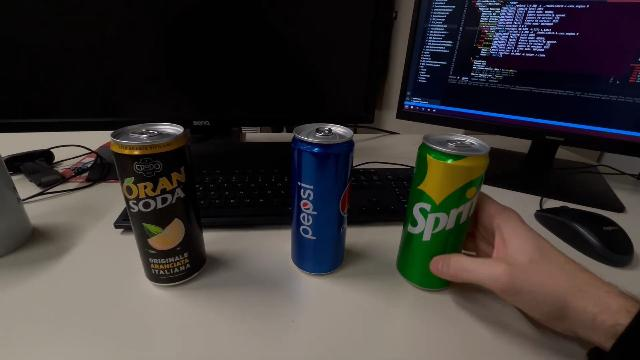OranSoda: (109, 121, 209, 287)
Pepsi: (288, 122, 356, 278)
Sprite: (394, 130, 491, 292)
